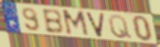0: (130, 15, 155, 43)
9: (21, 7, 42, 33)
B: (41, 8, 66, 35)
M: (61, 9, 91, 38)
Q: (108, 14, 134, 40)
V: (85, 11, 106, 39)
